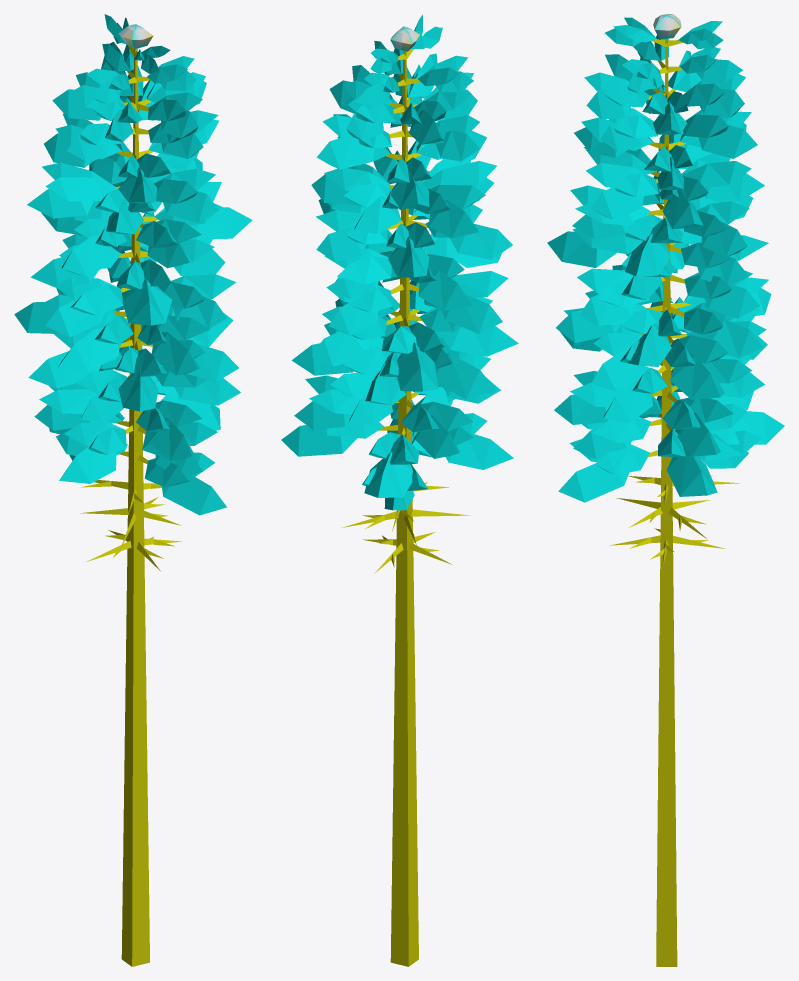
File: pine_lod2.gltf
3 views of the same model, side by side, from view 1: azimuth 30°, elevation 25°; view 2: azimuth 150°, elevation 25°; view 3: azimuth 270°, elevation 25° (orthographic).
Visible parts, largest first — view 1: tree; view 2: tree; view 3: tree.
Boxes of the visible parts, x1=… form: tree: x1=14, y1=14, x2=252, y2=966; tree: x1=281, y1=14, x2=518, y2=966; tree: x1=547, y1=14, x2=784, y2=966.
Size of the model in its own units: 4.54 by 19.9 by 4.53.
